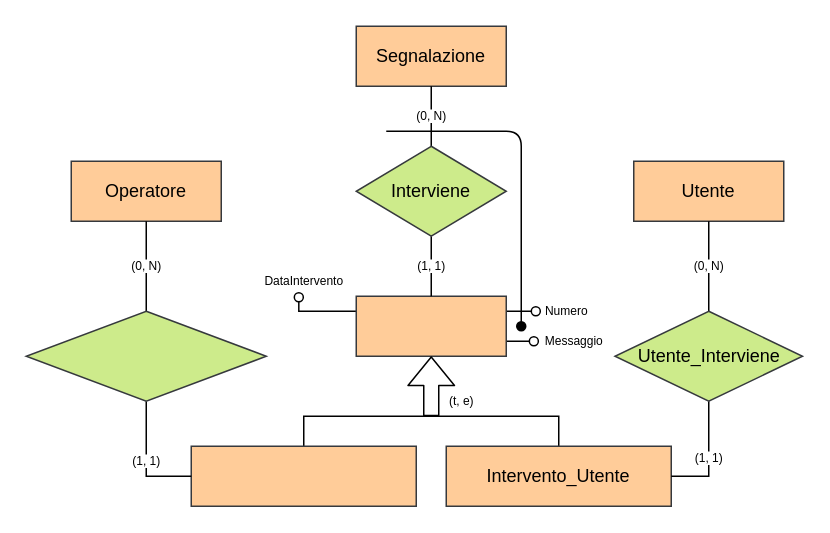
Image size: 830x533. Some labels were removed from this diagram. The box of each missing label's shape, as (x1, y1, x2, y2) in pixels:
Intervento: (355, 295, 506, 356)
Intervento_Operatore: (190, 445, 416, 506)
Operatore_Interviene: (25, 310, 266, 401)
